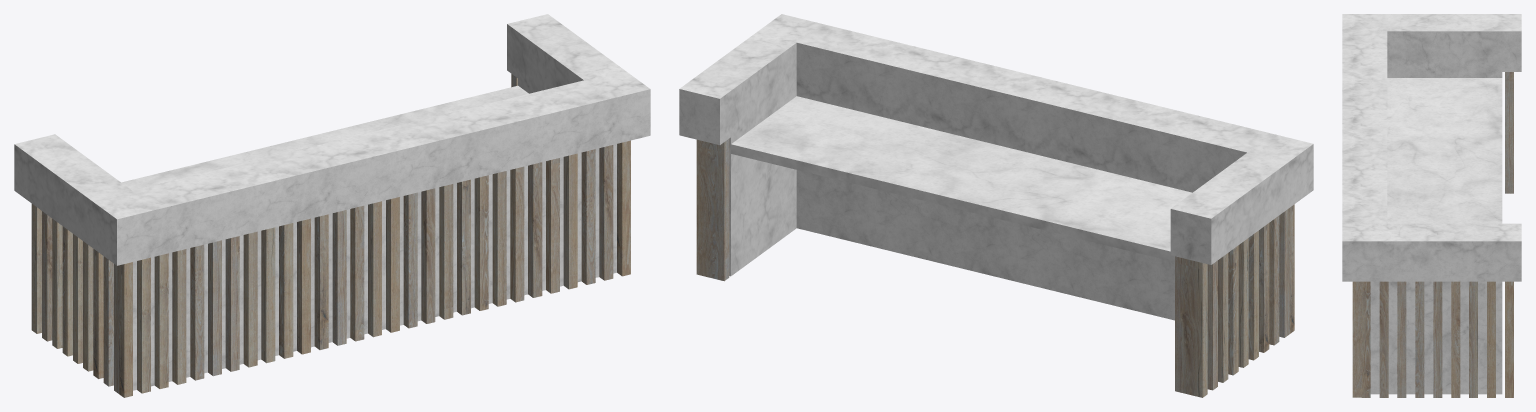
Rendered from ReceptionDesk.fbx.
3 views of the same model, side by side, from view 1: azimuth 30°, elevation 25°; view 2: azimuth 150°, elevation 25°; view 3: azimuth 270°, elevation 25° (orthographic). The views are drawn at different scales.
Parts seen in each view (by area): view 1: ReceptionDesk; view 2: ReceptionDesk; view 3: ReceptionDesk.
Part boxes in pixels (bbox=[...]): ReceptionDesk: bbox=[14, 14, 650, 397]; ReceptionDesk: bbox=[679, 14, 1313, 397]; ReceptionDesk: bbox=[1342, 14, 1521, 397].
Size of the model in its own units: 3 by 1 by 1.
2 materials, 2 textured.
